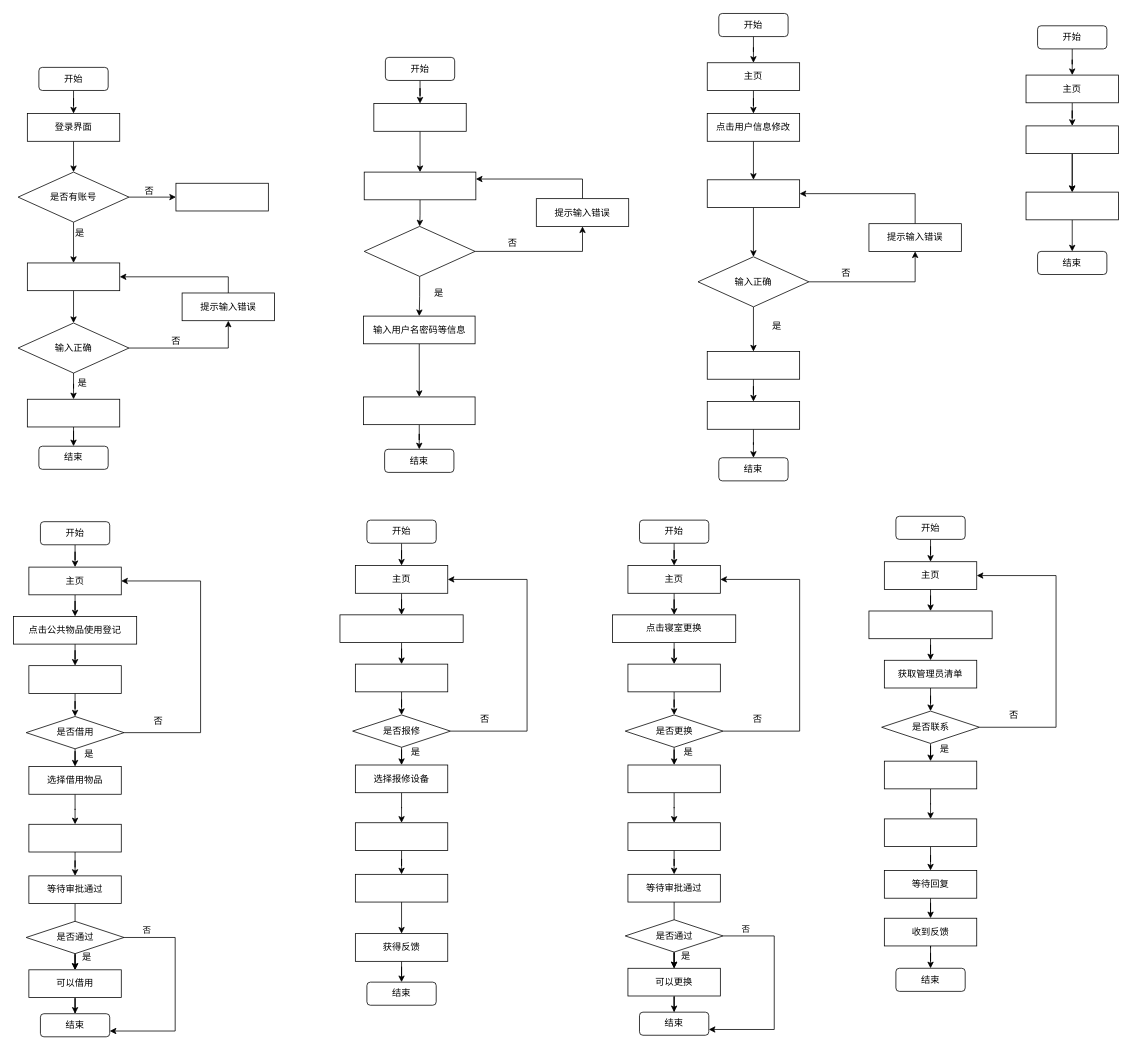
This 1132x1051 diagram has some shape labels left out. The box of each missing label's shape, as (x1, y1, x2, y2) in pixels:
修改成功: (706, 401, 800, 429)
填入新的个人信息: (706, 351, 800, 379)
填写借用申请: (28, 824, 121, 852)
填写报修备注: (355, 822, 448, 850)
填写更换申请: (627, 822, 720, 850)
注册完毕: (363, 396, 475, 425)
注册模块: (175, 182, 268, 211)
注册界面: (373, 103, 466, 131)
点击故障报修: (339, 614, 463, 643)
点击联系管理员: (868, 610, 992, 639)
点击获取出行信息: (1025, 125, 1118, 154)
登录成功: (27, 398, 120, 427)
等待反馈: (355, 874, 448, 902)
统一身份认证: (363, 171, 476, 200)
获取公共物品清单: (28, 665, 121, 693)
获取空闲寝室清单: (627, 663, 720, 692)
获取设备清单: (355, 663, 448, 692)
获得出行信息反馈: (1025, 191, 1118, 220)
输入密码: (706, 179, 800, 208)
输入消息: (884, 818, 977, 847)
输入用户名密码: (27, 262, 120, 291)
选择目标寝室: (627, 764, 720, 793)
选择管理员: (884, 760, 977, 789)
验证成功: (363, 226, 475, 276)
